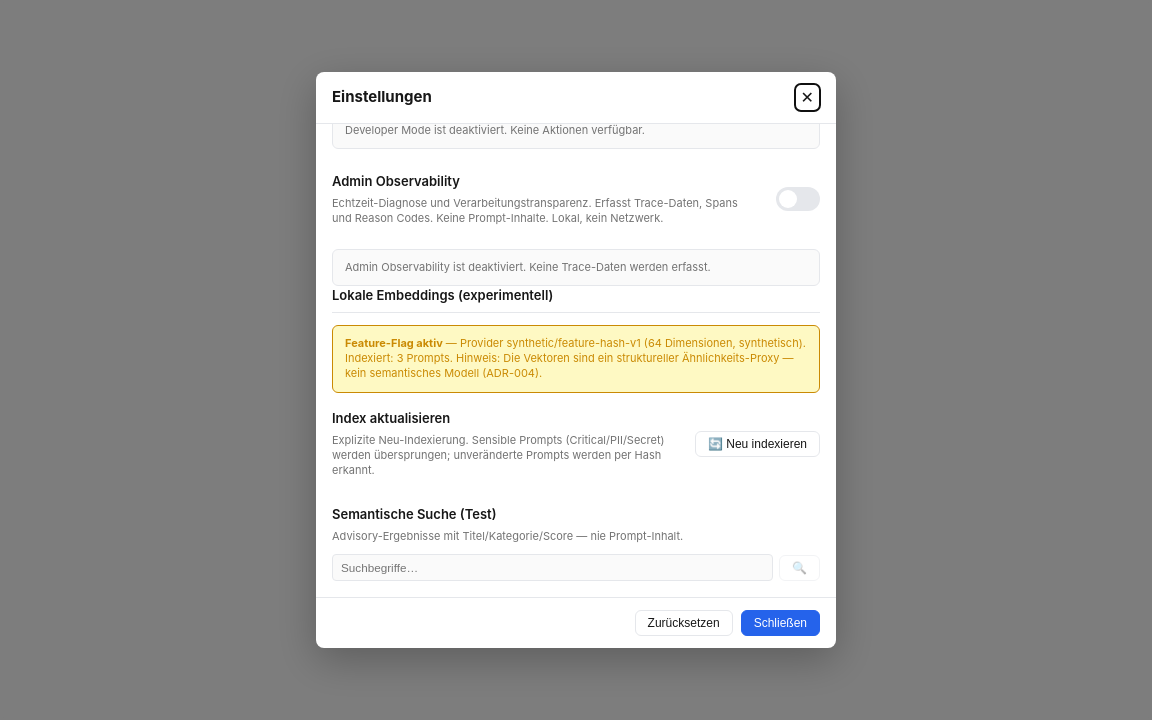
Test: SettingsPanel — Embeddings-Sektion (#199) › runs a reindex and shows the structured report
This screenshot has width=1152, height=720.
(page scrolled)
Expected: the element with test id "embeddings-section" is shown, [332,286,820,581]
Click the button with aria-label "Embeddings neu indexieren": click(758, 444) [695,431,820,457]
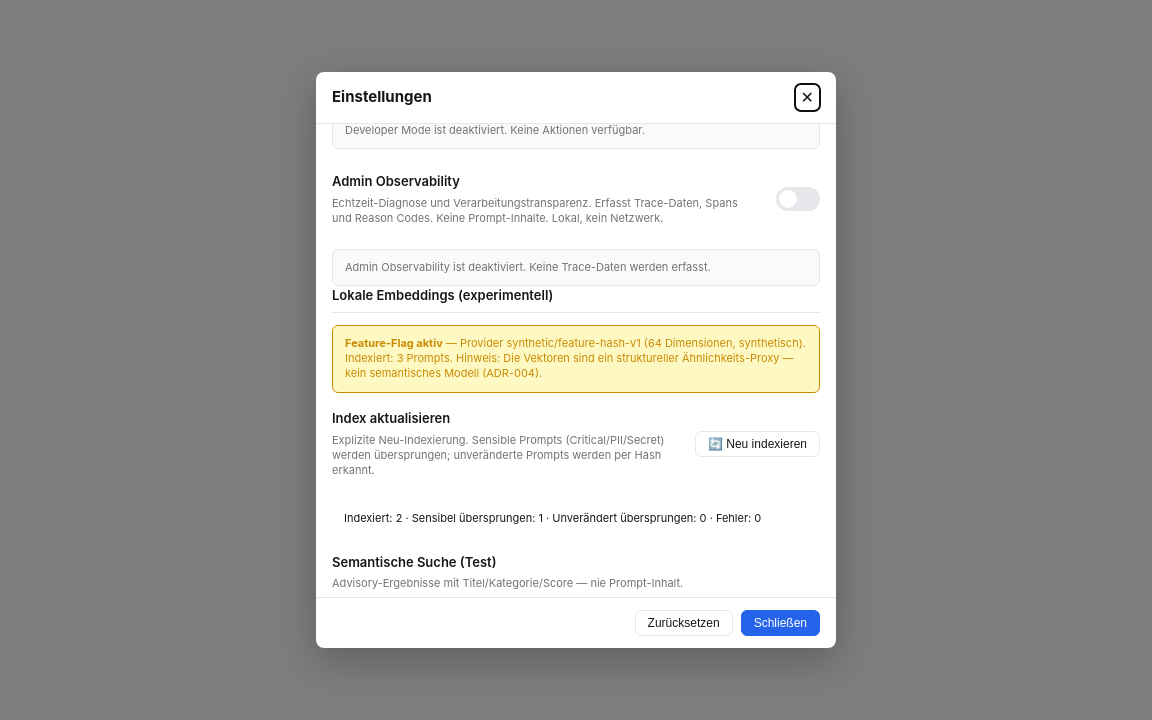
Now the text with test id "embeddings-reindex-report" shows "Indexiert: 2", box [344,511,761,525]
Now the text with test id "embeddings-reindex-report" shows "Sensibel übersprungen: 1", box [344,511,761,525]
